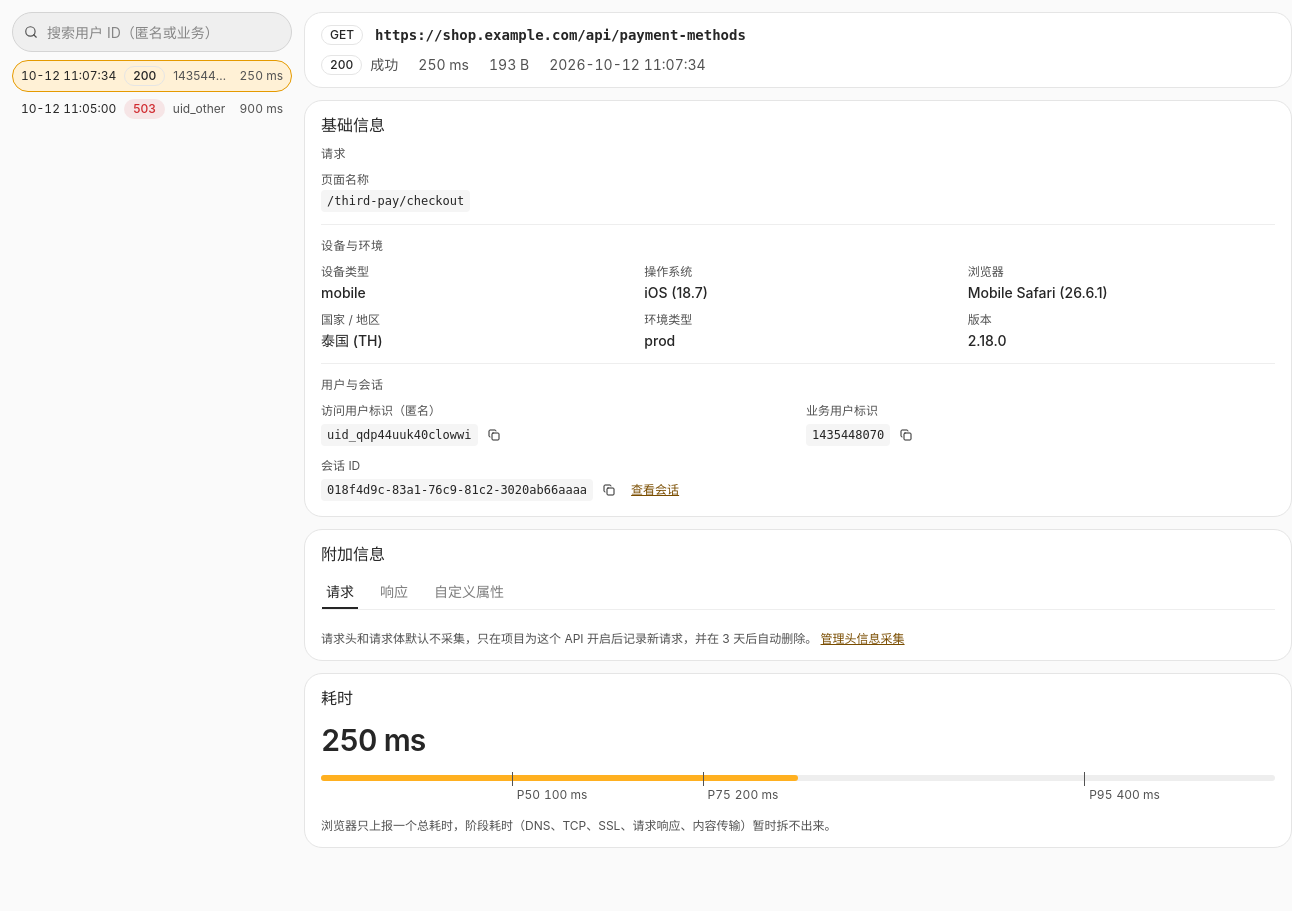
Test: ApiSamples › opens another request, with its failure and its custom attributes
Step 1. Click the button "10-12 11:05:00 503 uid_other 900 ms" → coordinates (152, 109), box left=12, top=93, right=292, bottom=125
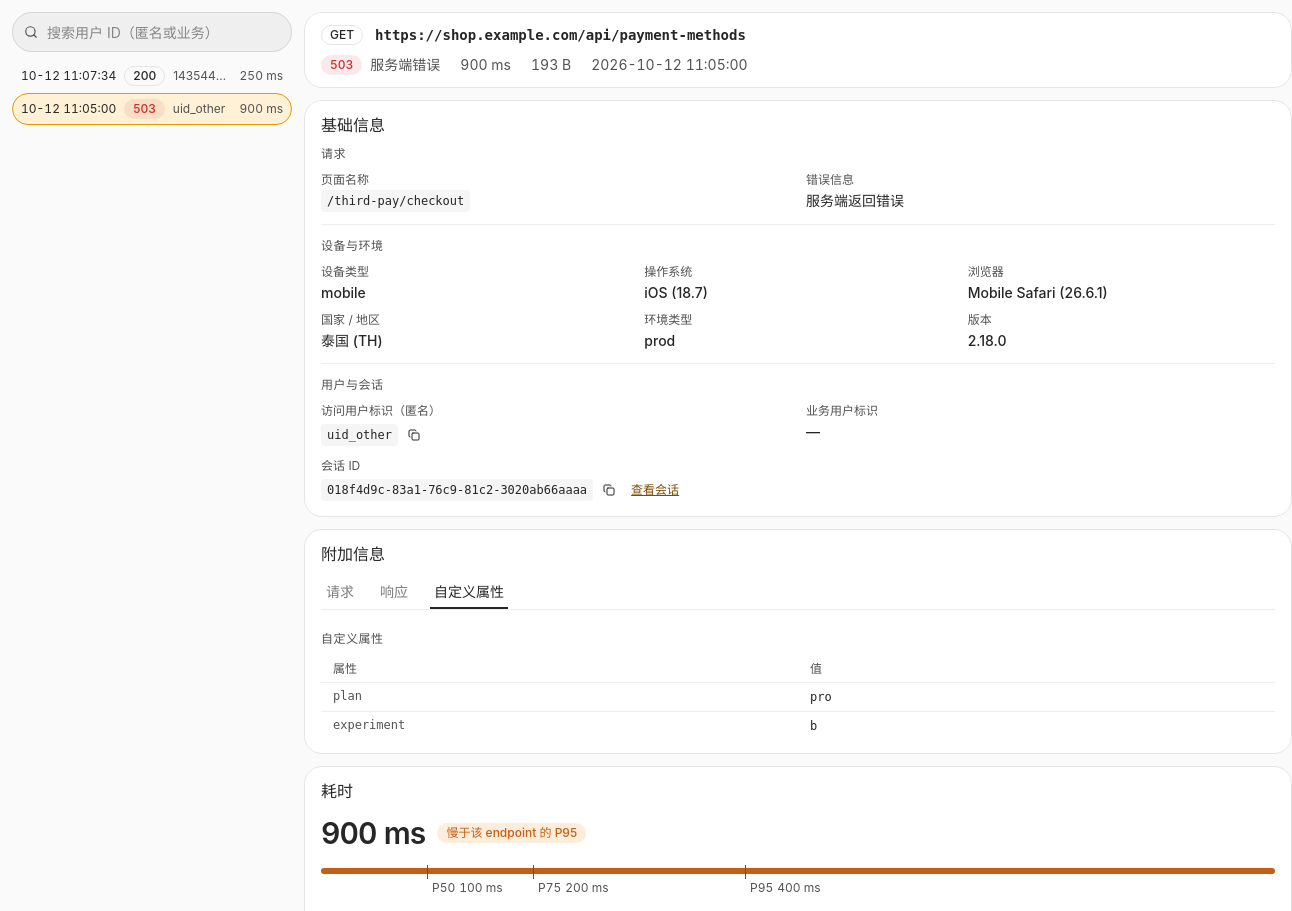
expect the text "服务端错误" is shown: met, box left=370, top=54, right=440, bottom=75
expect the text "服务端返回错误" is shown: met, box left=806, top=192, right=904, bottom=209
expect the column heading "plan" is shown: met, box left=321, top=683, right=798, bottom=712
